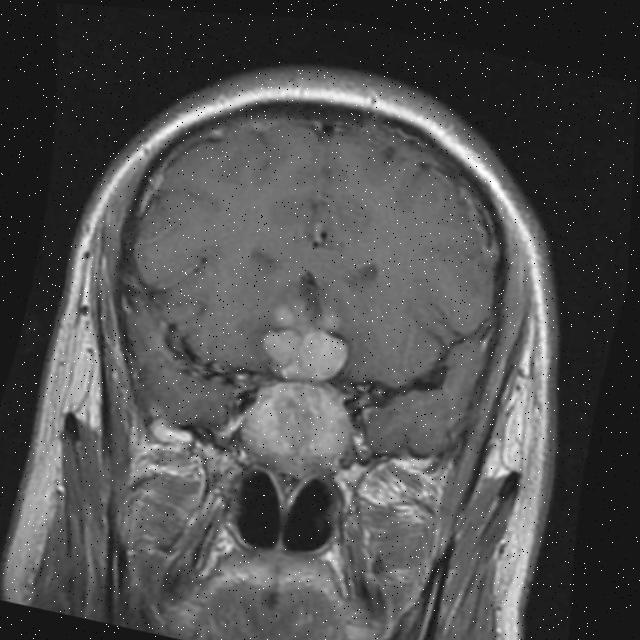Pituitary: (232, 368, 366, 489), (256, 318, 352, 391)
